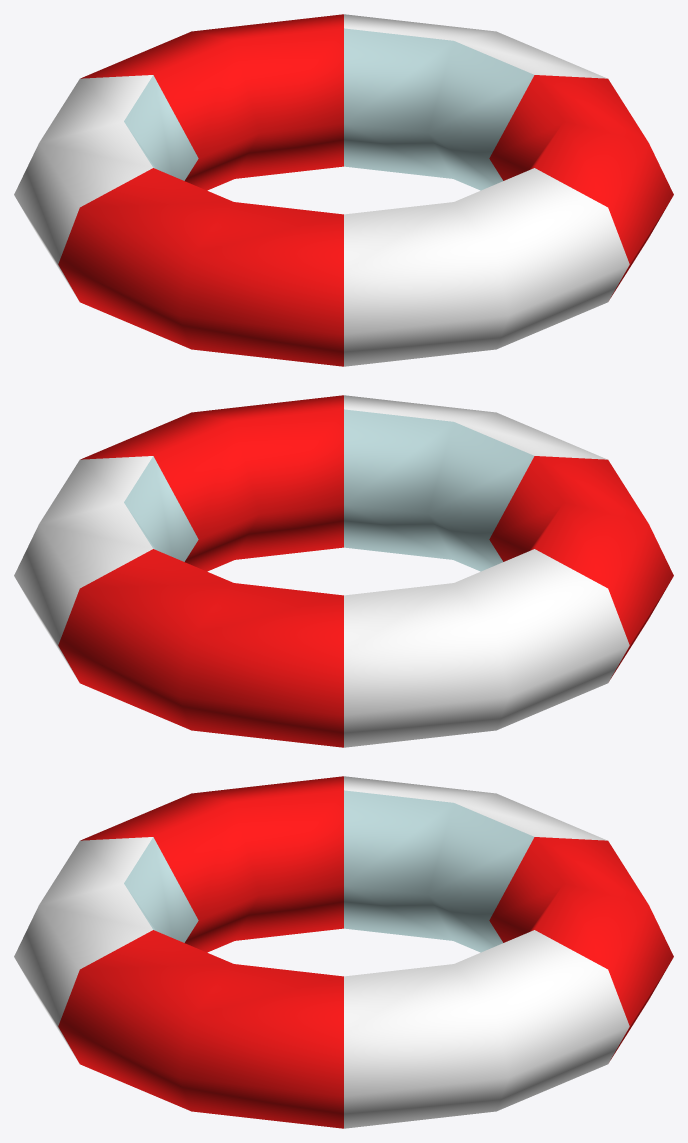
File: phao.fbx
3 renders of one model, top to bottom at view 1: azimuth 30°, elevation 25°; view 2: azimuth 150°, elevation 25°; view 3: azimuth 270°, elevation 25°, orthographic.
Visible parts, largest first — view 1: pasted__trap_001; view 2: pasted__trap_001; view 3: pasted__trap_001.
Boxes of the visible parts, x1,y1,x2,y2 form: pasted__trap_001: (14, 14, 673, 366); pasted__trap_001: (14, 395, 673, 747); pasted__trap_001: (14, 776, 673, 1128).
Size of the model in its own units: 159 by 36.49 by 159.
